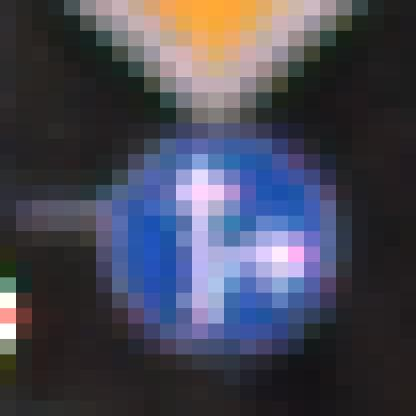Straight or Right: (81, 93, 337, 340)
